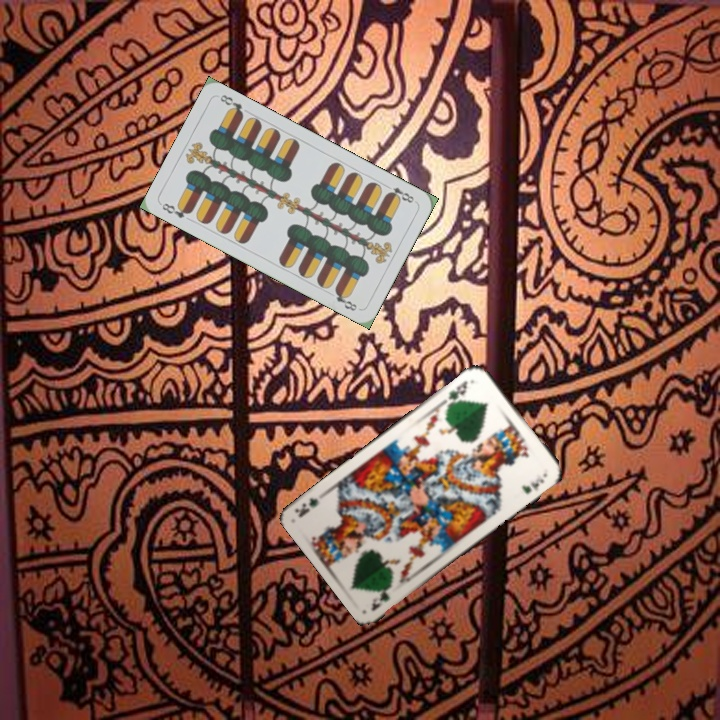E8: (381, 180, 417, 206), (158, 199, 194, 221)
GK: (367, 582, 396, 614), (444, 376, 470, 407)
